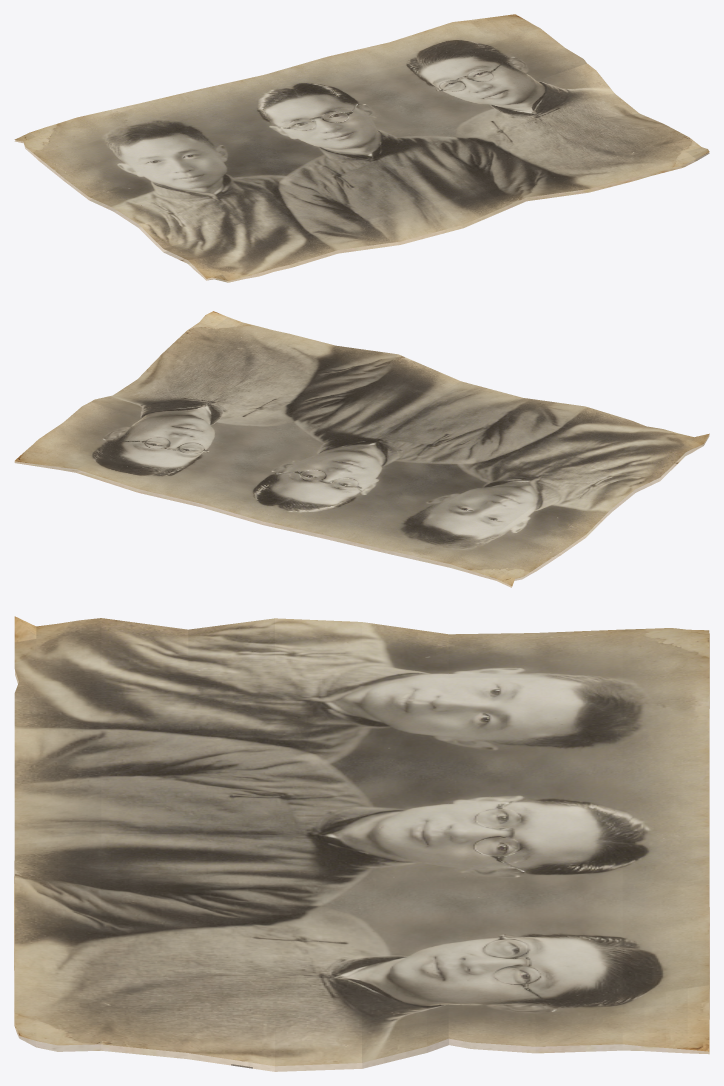
File: 照片三人.fbx
3 renders of one model, top to bottom at view 1: azimuth 30°, elevation 25°; view 2: azimuth 150°, elevation 25°; view 3: azimuth 270°, elevation 25°, orthographic. The views are drawn at different scales.
Visible parts, largest first — view 1: 平面.001; view 2: 平面.001; view 3: 平面.001.
Part boxes in pixels (left/top/right/bottom): 平面.001: left=14, top=14, right=709, bottom=282; 平面.001: left=14, top=311, right=709, bottom=587; 平面.001: left=14, top=616, right=709, bottom=1071.
Size of the model in its own units: 801 by 30.36 by 551.
1 material, 1 textured.
